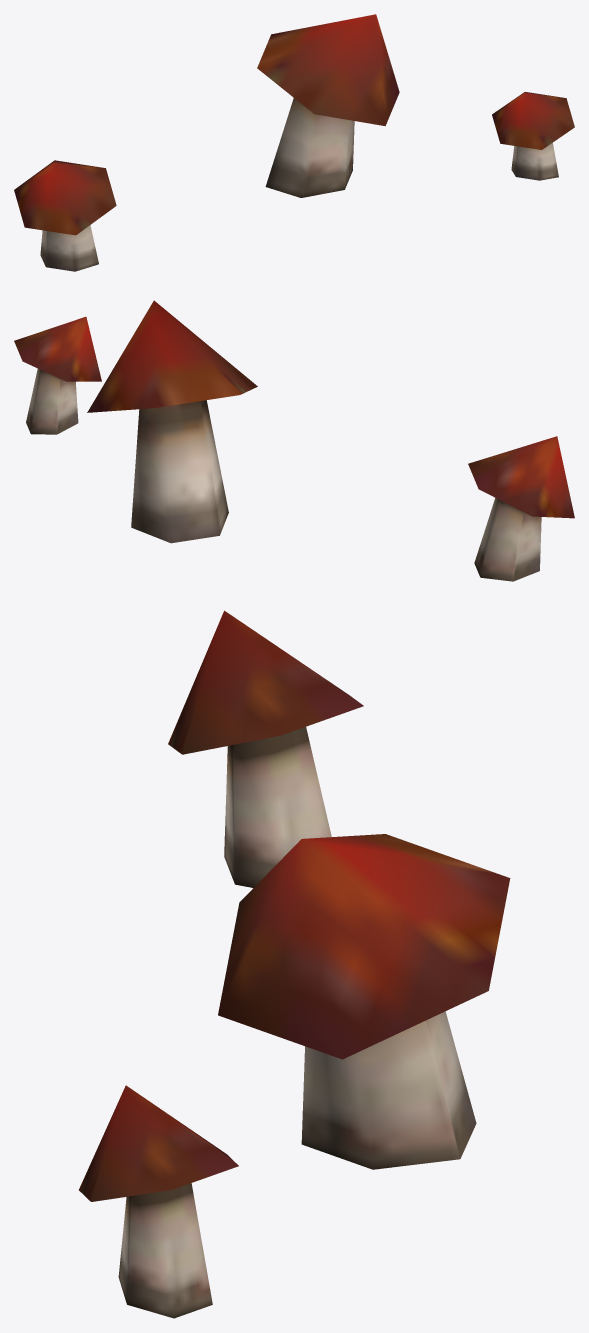
The picture shows the model from 3 angles, top to bottom: view 1: azimuth 30°, elevation 25°; view 2: azimuth 150°, elevation 25°; view 3: azimuth 270°, elevation 25°; orthographic projection. The views are drawn at different scales.
Visible parts, largest first — view 1: Grass08; view 2: Grass08; view 3: Grass08.
Part boxes in pixels (box(x1,y1,x2,y2)): Grass08: box(14, 14, 574, 271); Grass08: box(14, 300, 574, 581); Grass08: box(79, 610, 510, 1318).
Size of the model in its own units: 74.36 by 23.29 by 26.63.
